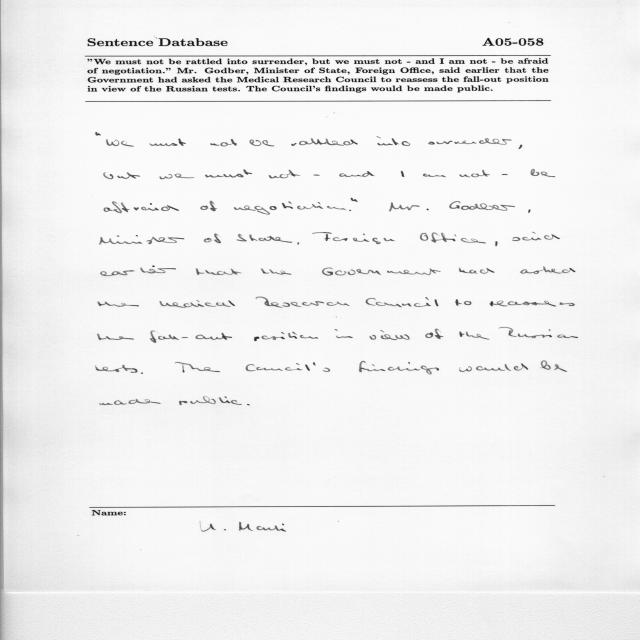word: (234, 201, 347, 215), (150, 330, 232, 343), (359, 361, 439, 374), (256, 297, 350, 308), (312, 232, 395, 244), (322, 268, 441, 276), (104, 202, 179, 214), (499, 327, 578, 338), (246, 362, 330, 372), (100, 235, 184, 244), (101, 266, 176, 276), (366, 297, 439, 307), (420, 233, 486, 244), (449, 201, 515, 211), (254, 332, 318, 342), (459, 363, 528, 372), (160, 300, 235, 308), (428, 138, 511, 145), (291, 138, 358, 146), (490, 301, 575, 307), (237, 234, 293, 243), (179, 397, 242, 405), (175, 362, 220, 373), (512, 232, 560, 241), (369, 330, 410, 340), (521, 267, 576, 274), (205, 170, 252, 178), (100, 399, 161, 405), (389, 203, 429, 212), (377, 136, 411, 146), (96, 365, 138, 373), (196, 268, 241, 275), (149, 139, 186, 147), (269, 170, 301, 179), (541, 361, 567, 372), (460, 331, 490, 340), (104, 173, 140, 180), (459, 267, 495, 274), (98, 301, 139, 307), (106, 139, 134, 147), (459, 170, 490, 177), (339, 171, 375, 177), (98, 334, 134, 340), (531, 170, 555, 178), (210, 139, 237, 146), (261, 269, 291, 275), (425, 329, 443, 339), (250, 140, 275, 147), (160, 174, 195, 179), (200, 201, 217, 211), (204, 234, 221, 244), (335, 329, 353, 338), (455, 299, 472, 306), (423, 174, 446, 178), (351, 198, 358, 202), (401, 171, 404, 177), (519, 145, 523, 149), (96, 133, 101, 136), (495, 242, 498, 247), (528, 209, 531, 213), (314, 175, 320, 176), (502, 174, 508, 175), (298, 242, 300, 245), (141, 372, 143, 374), (247, 404, 250, 405), (349, 210, 351, 211)
